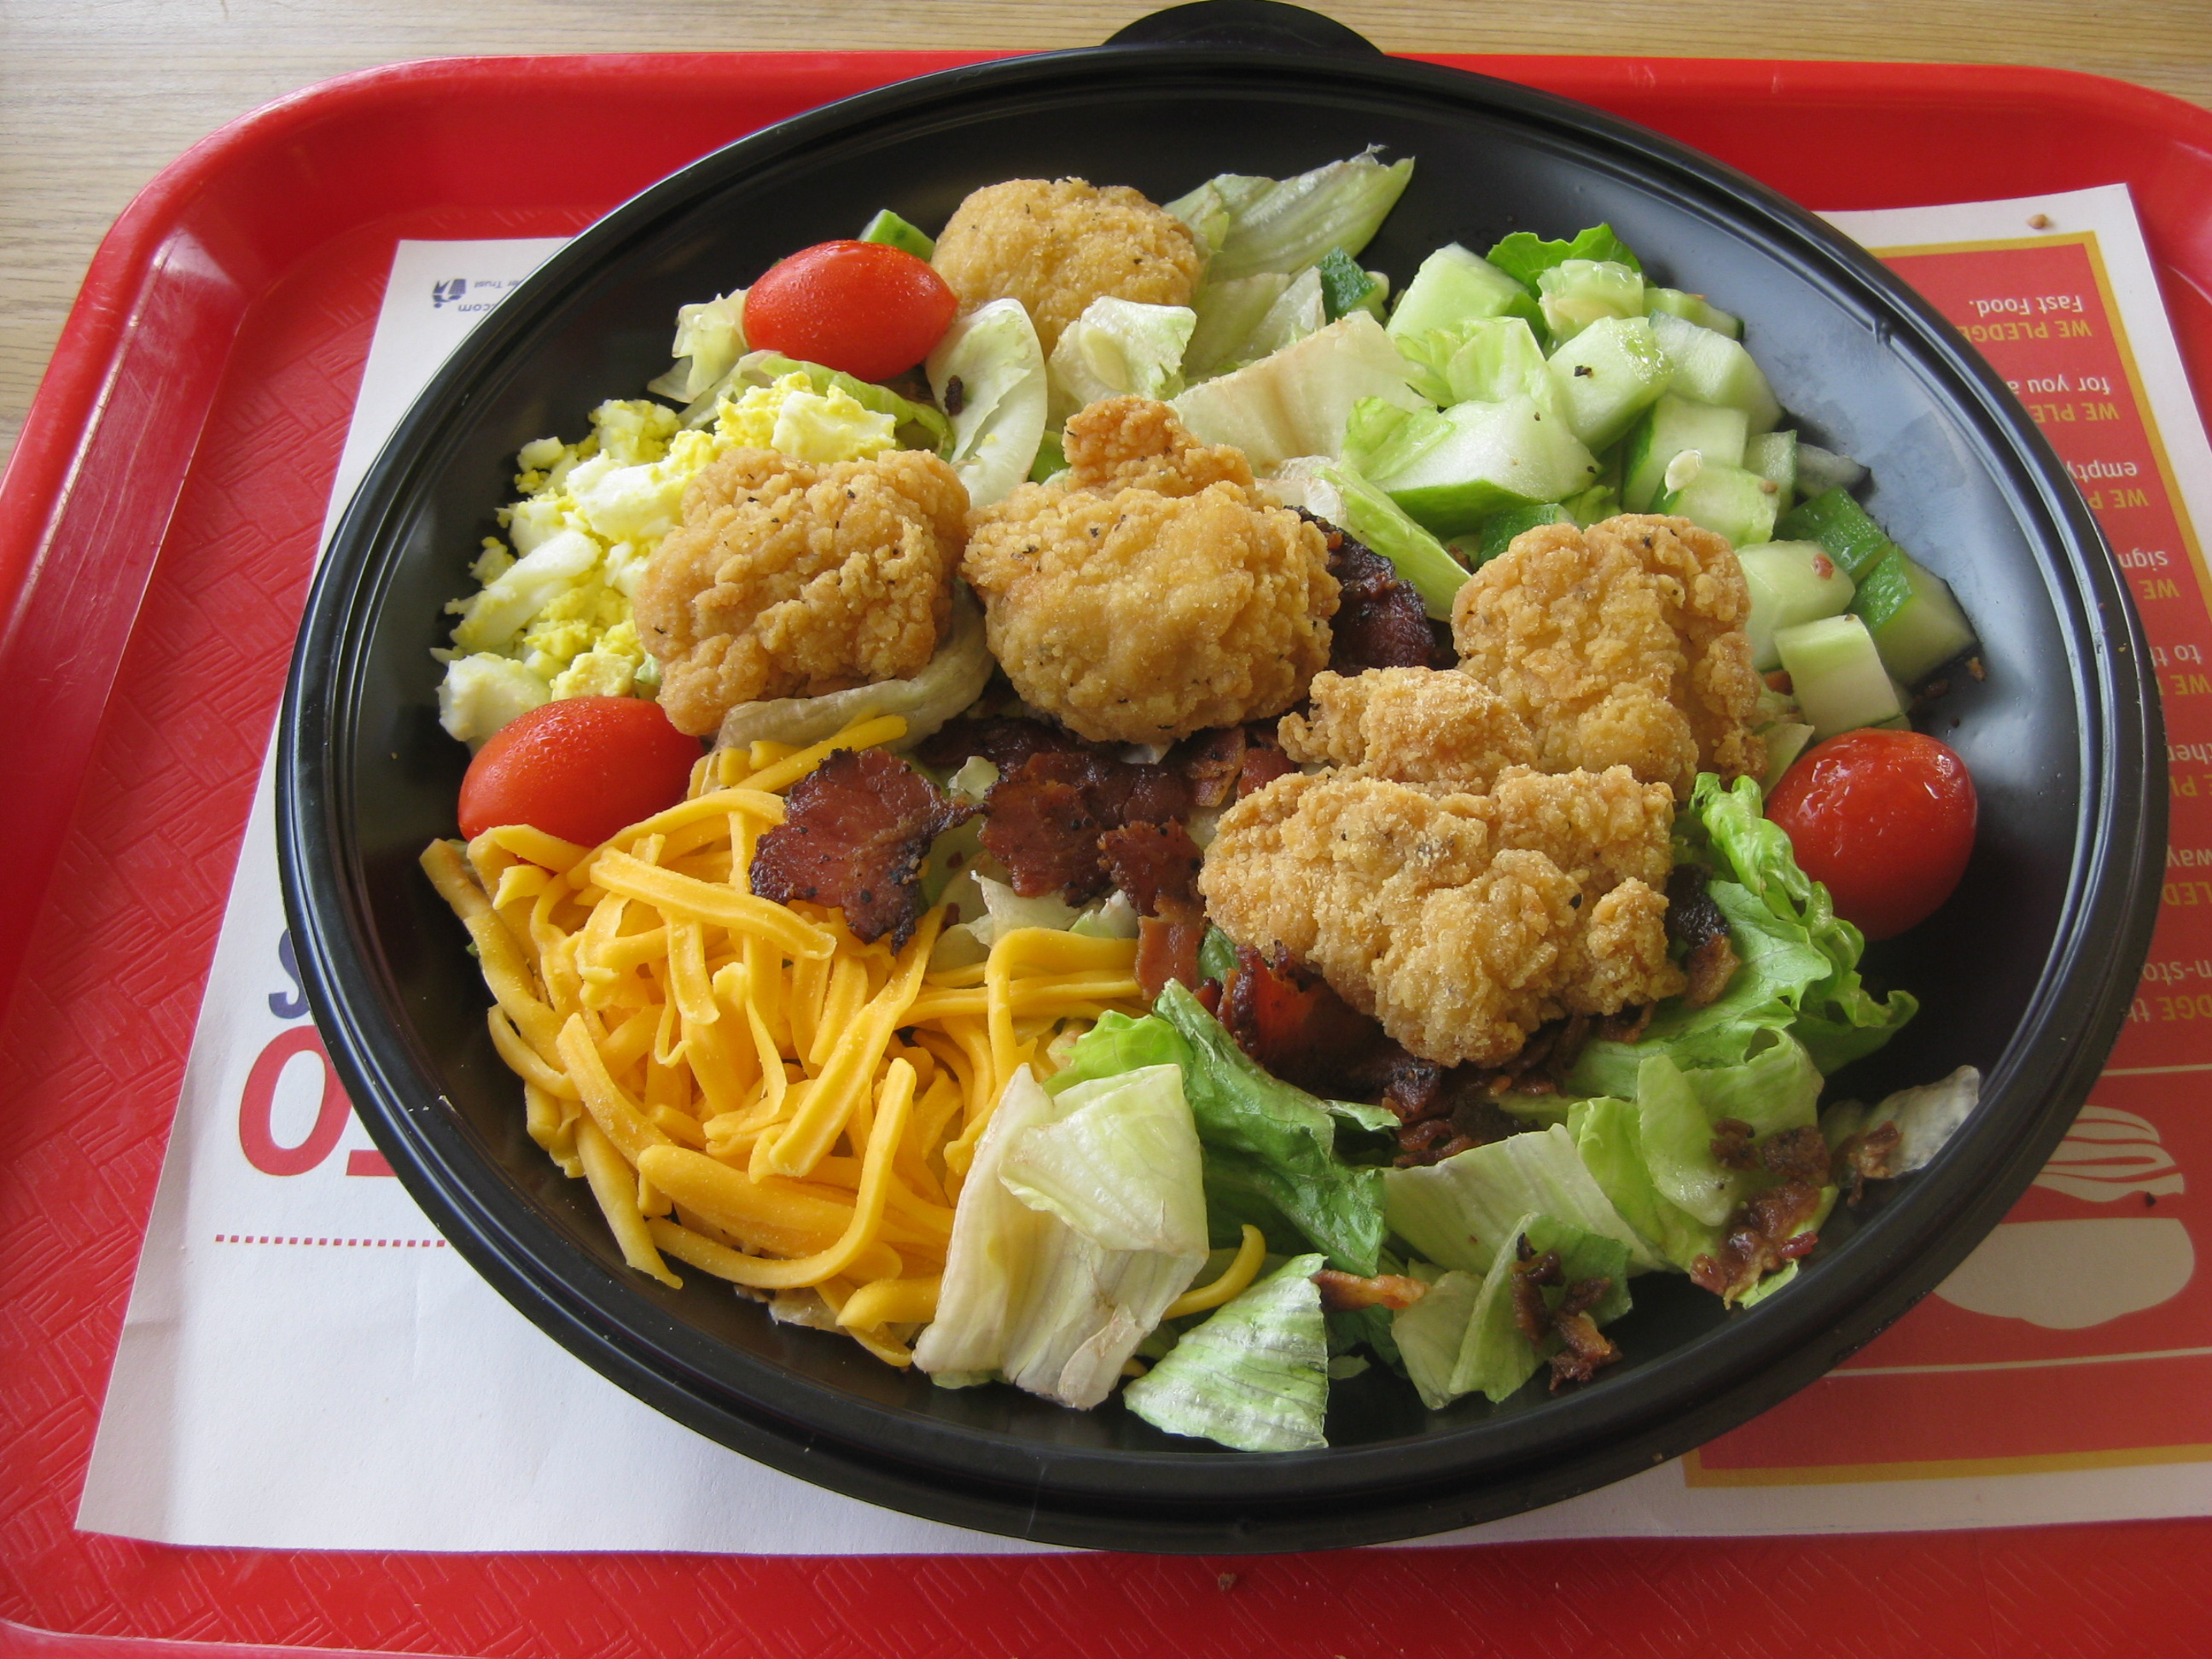salad: (332, 12, 2077, 1471)
